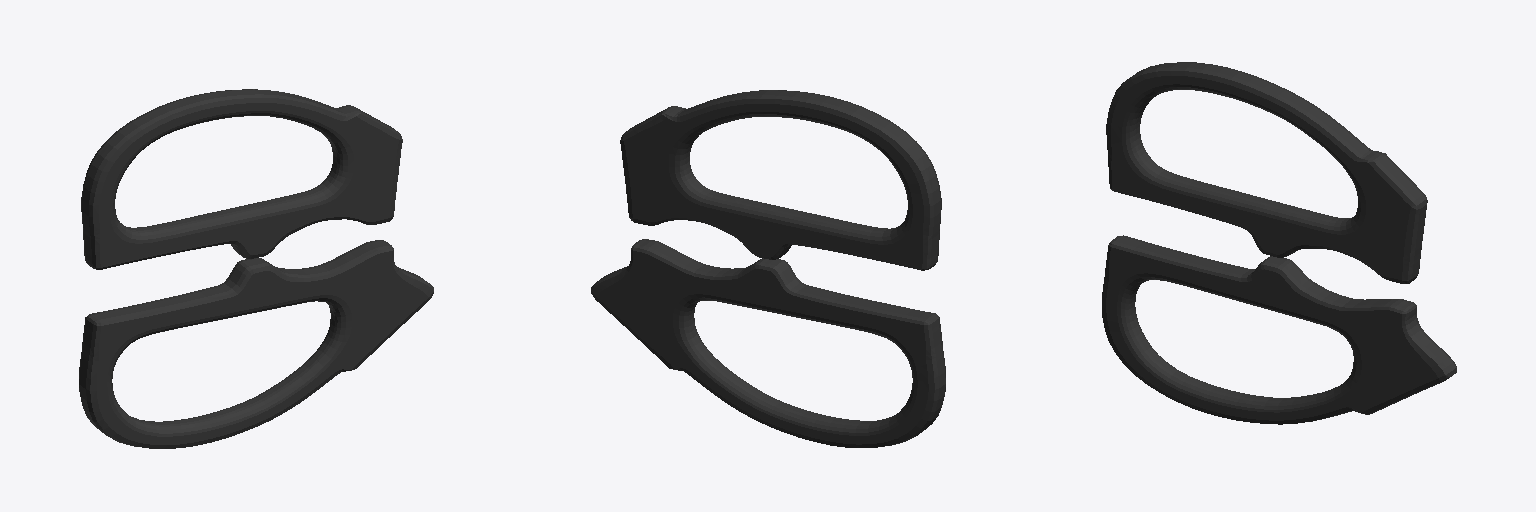
Rendered from Scissors1Plastics.obj.
3 renders of one model, left to right at view 1: azimuth 30°, elevation 25°; view 2: azimuth 150°, elevation 25°; view 3: azimuth 330°, elevation 25°, orthographic.
Parts seen in each view (by area): view 1: Scissors1Plastics; view 2: Scissors1Plastics; view 3: Scissors1Plastics.
Part boxes in pixels (bbox=[...]): Scissors1Plastics: bbox=[79, 89, 433, 448]; Scissors1Plastics: bbox=[591, 90, 945, 447]; Scissors1Plastics: bbox=[1102, 62, 1456, 424].
Bounding box in the file's own units: 0.074 × 0.0695 × 0.0053.